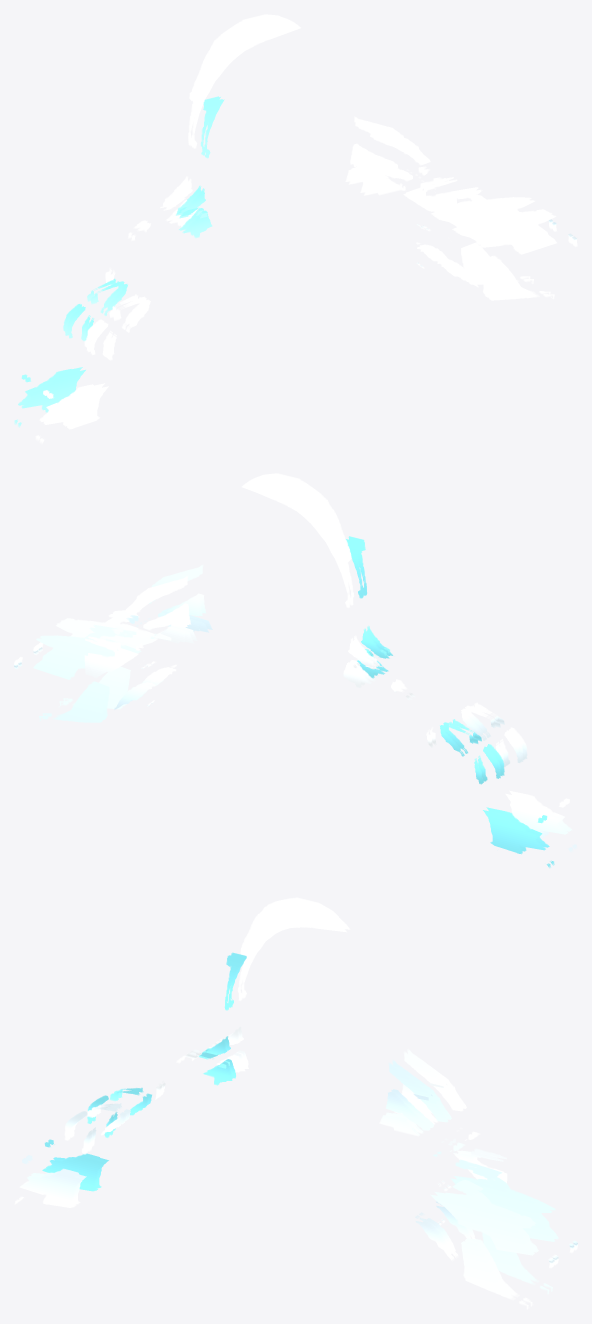
Rendered from yuna_curve_bundle_hair_v1_repair_attempt_05.glb.
The picture shows the model from 3 angles, top to bottom: view 1: azimuth 30°, elevation 25°; view 2: azimuth 150°, elevation 25°; view 3: azimuth 330°, elevation 25°; orthographic projection.
Visible parts, largest first — view 1: back_hair_mass_repair_05_01_01, bangs_primary_repair_05_01_01, side_hair_right_primary_repair_05_01_01, back_hair_mass_repair_05_02_01, side_hair_left_primary_repair_05_01_01, side_hair_right_primary_repair_05_02_01, side_hair_right_primary_repair_05_03_01, bangs_primary_repair_05_02_01, bangs_primary_repair_05_03_01, back_hair_mass_repair_05_01_02, back_hair_mass_repair_05_01_03, side_hair_right_primary_repair_05_01_02 (+1 smaller); view 2: side_hair_right_primary_repair_05_01_02, bangs_primary_repair_05_01_02, back_hair_mass_repair_05_01_03, side_hair_left_primary_repair_05_01_02, back_hair_mass_repair_05_02_03, bangs_primary_repair_05_01_01, bangs_primary_repair_05_04_02, bangs_primary_repair_05_02_02, bangs_primary_repair_05_03_02, side_hair_right_primary_repair_05_01_01, back_hair_mass_repair_05_01_01, bangs_primary_repair_05_02_01; view 3: back_hair_mass_repair_05_01_01, side_hair_right_primary_repair_05_01_01, bangs_primary_repair_05_01_01, back_hair_mass_repair_05_02_01, side_hair_right_primary_repair_05_03_01, side_hair_left_primary_repair_05_01_01, side_hair_right_primary_repair_05_02_01, bangs_primary_repair_05_04_01, back_hair_mass_repair_05_01_03, back_hair_mass_repair_05_01_02, side_hair_right_primary_repair_05_01_02, bangs_primary_repair_05_02_01.
Part boxes in pixels (x1,y1,x2,y2): back_hair_mass_repair_05_01_01: (452,203,556,300); bangs_primary_repair_05_01_01: (189,15,300,148); side_hair_right_primary_repair_05_01_01: (414,187,534,284); back_hair_mass_repair_05_02_01: (38,383,108,443); side_hair_left_primary_repair_05_01_01: (15,367,85,427); side_hair_right_primary_repair_05_02_01: (360,146,413,195); side_hair_right_primary_repair_05_03_01: (370,128,444,193); bangs_primary_repair_05_02_01: (401,177,457,211); bangs_primary_repair_05_03_01: (345,134,398,184); back_hair_mass_repair_05_01_02: (464,202,553,299); back_hair_mass_repair_05_01_03: (459,202,552,299); side_hair_right_primary_repair_05_01_02: (413,187,533,283); side_hair_right_primary_repair_05_01_02: (33,625,155,722); bangs_primary_repair_05_01_02: (251,474,353,607); back_hair_mass_repair_05_01_03: (56,611,150,709); side_hair_left_primary_repair_05_01_02: (488,810,553,868); back_hair_mass_repair_05_02_03: (510,794,575,852); bangs_primary_repair_05_01_01: (241,473,354,606); bangs_primary_repair_05_04_02: (111,576,187,640); bangs_primary_repair_05_02_02: (88,638,142,677); bangs_primary_repair_05_03_02: (151,598,189,643); side_hair_right_primary_repair_05_01_01: (36,624,156,721); back_hair_mass_repair_05_01_01: (57,610,157,707); bangs_primary_repair_05_02_01: (84,636,143,677); back_hair_mass_repair_05_01_01: (430,1181,536,1309); side_hair_right_primary_repair_05_01_01: (433,1152,557,1294); bangs_primary_repair_05_01_01: (237,898,350,1000); back_hair_mass_repair_05_02_01: (14,1156,86,1207); side_hair_right_primary_repair_05_03_01: (388,1060,464,1151); side_hair_left_primary_repair_05_01_01: (42,1140,108,1191); side_hair_right_primary_repair_05_02_01: (379,1090,432,1136); bangs_primary_repair_05_04_01: (403,1049,479,1140); back_hair_mass_repair_05_01_03: (442,1179,538,1307); back_hair_mass_repair_05_01_02: (446,1180,537,1308); side_hair_right_primary_repair_05_01_02: (434,1151,558,1293); bangs_primary_repair_05_02_01: (448,1139,507,1183).
Bounding box in the file's own units: 3.1 × 1.86 × 0.412.
Materials: 5 (4 with a texture image).
